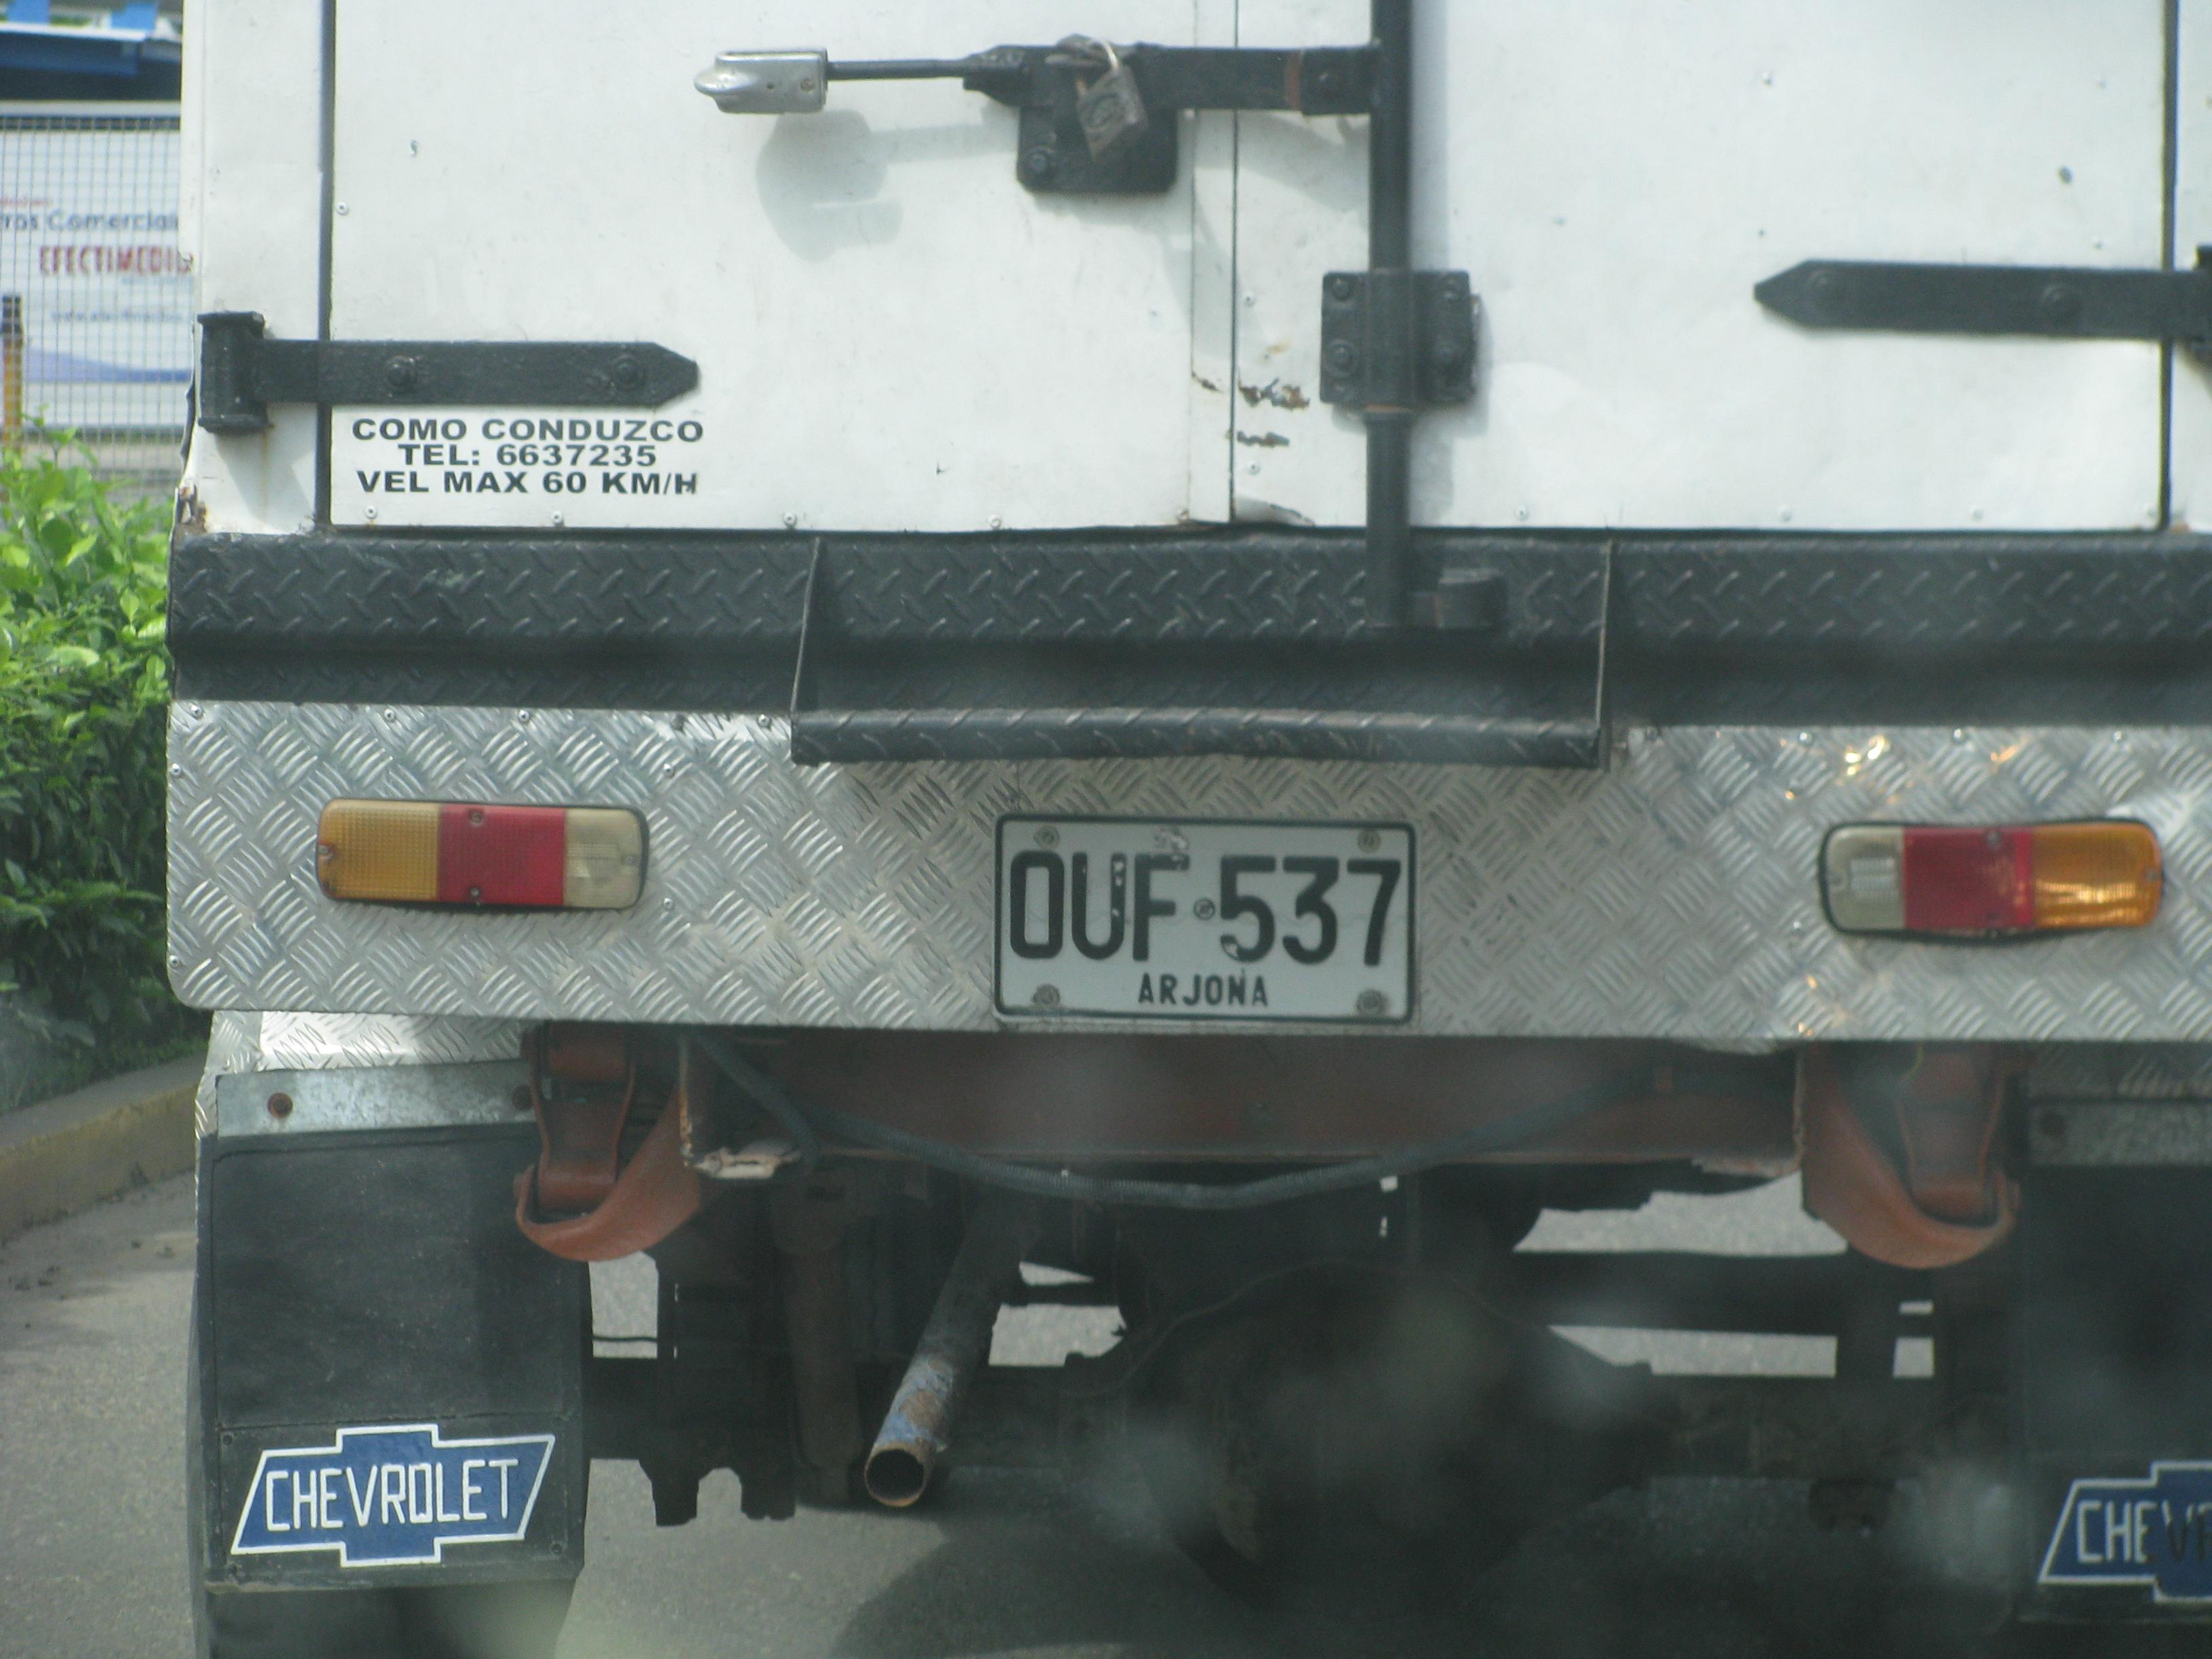placas: (980, 806, 1427, 1033)
